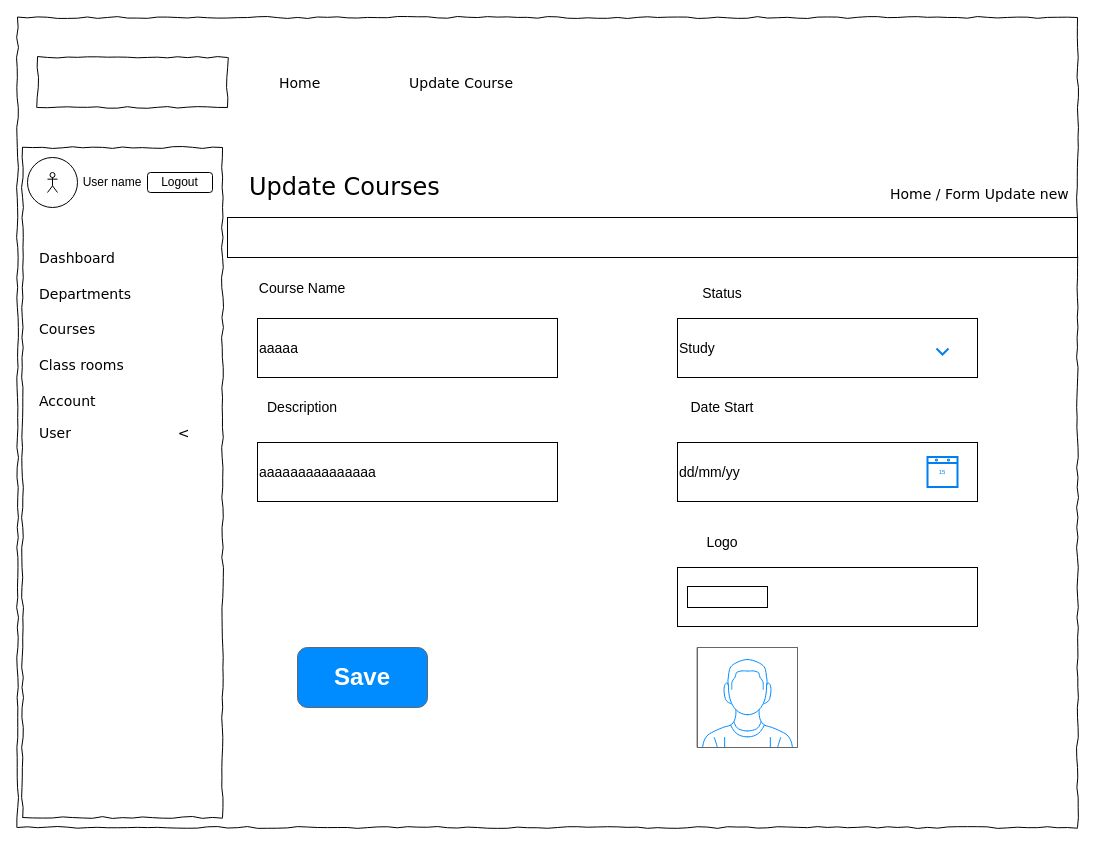
Image size: 1095x845. Some labels were removed from this diagram. Each missing label, with the centre of its shape:
Btec: point 132,82
Chọn tệp: point 727,597
UpdateCourse: point 652,237
